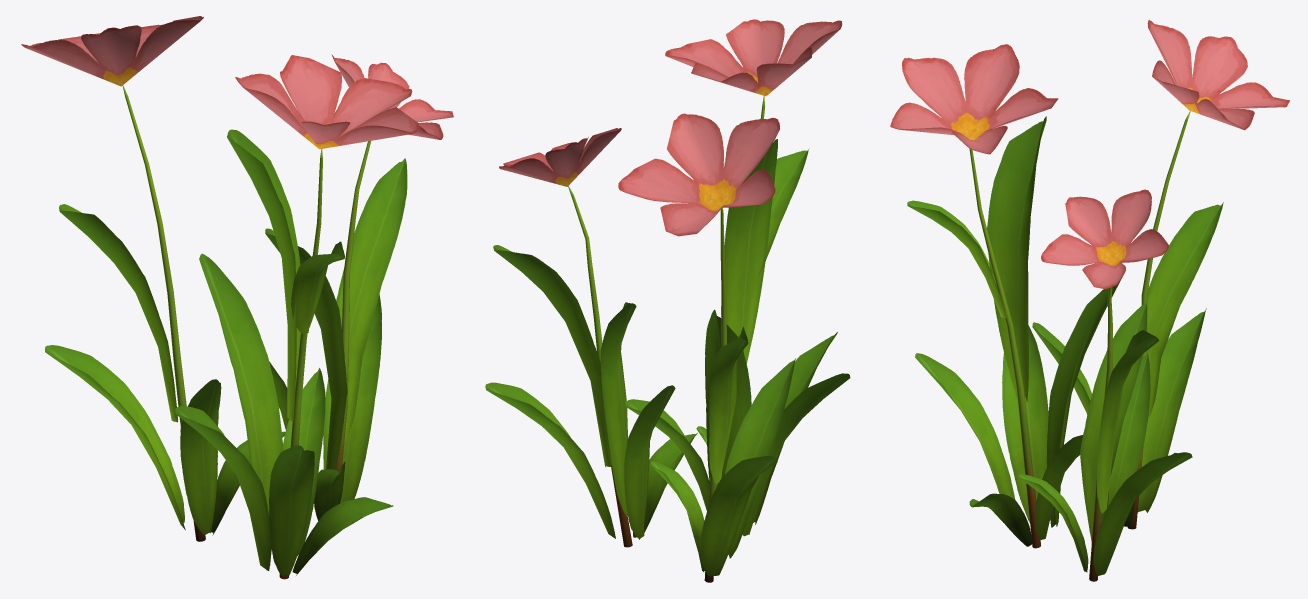
Rendered from Flower_3_Group.gltf.
3 views of the same model, side by side, from view 1: azimuth 30°, elevation 25°; view 2: azimuth 150°, elevation 25°; view 3: azimuth 270°, elevation 25° (orthographic). The views are drawn at different scales.
Visible parts, largest first — view 1: Flower_3_Group; view 2: Flower_3_Group; view 3: Flower_3_Group.
Boxes of the visible parts, x1=… form: Flower_3_Group: x1=21, y1=16, x2=453, y2=579; Flower_3_Group: x1=485, y1=19, x2=850, y2=582; Flower_3_Group: x1=890, y1=20, x2=1289, y2=581.
Bounding box in the file's own units: 1.49 × 2.05 × 1.59.
Materials: 2 (2 with a texture image).
